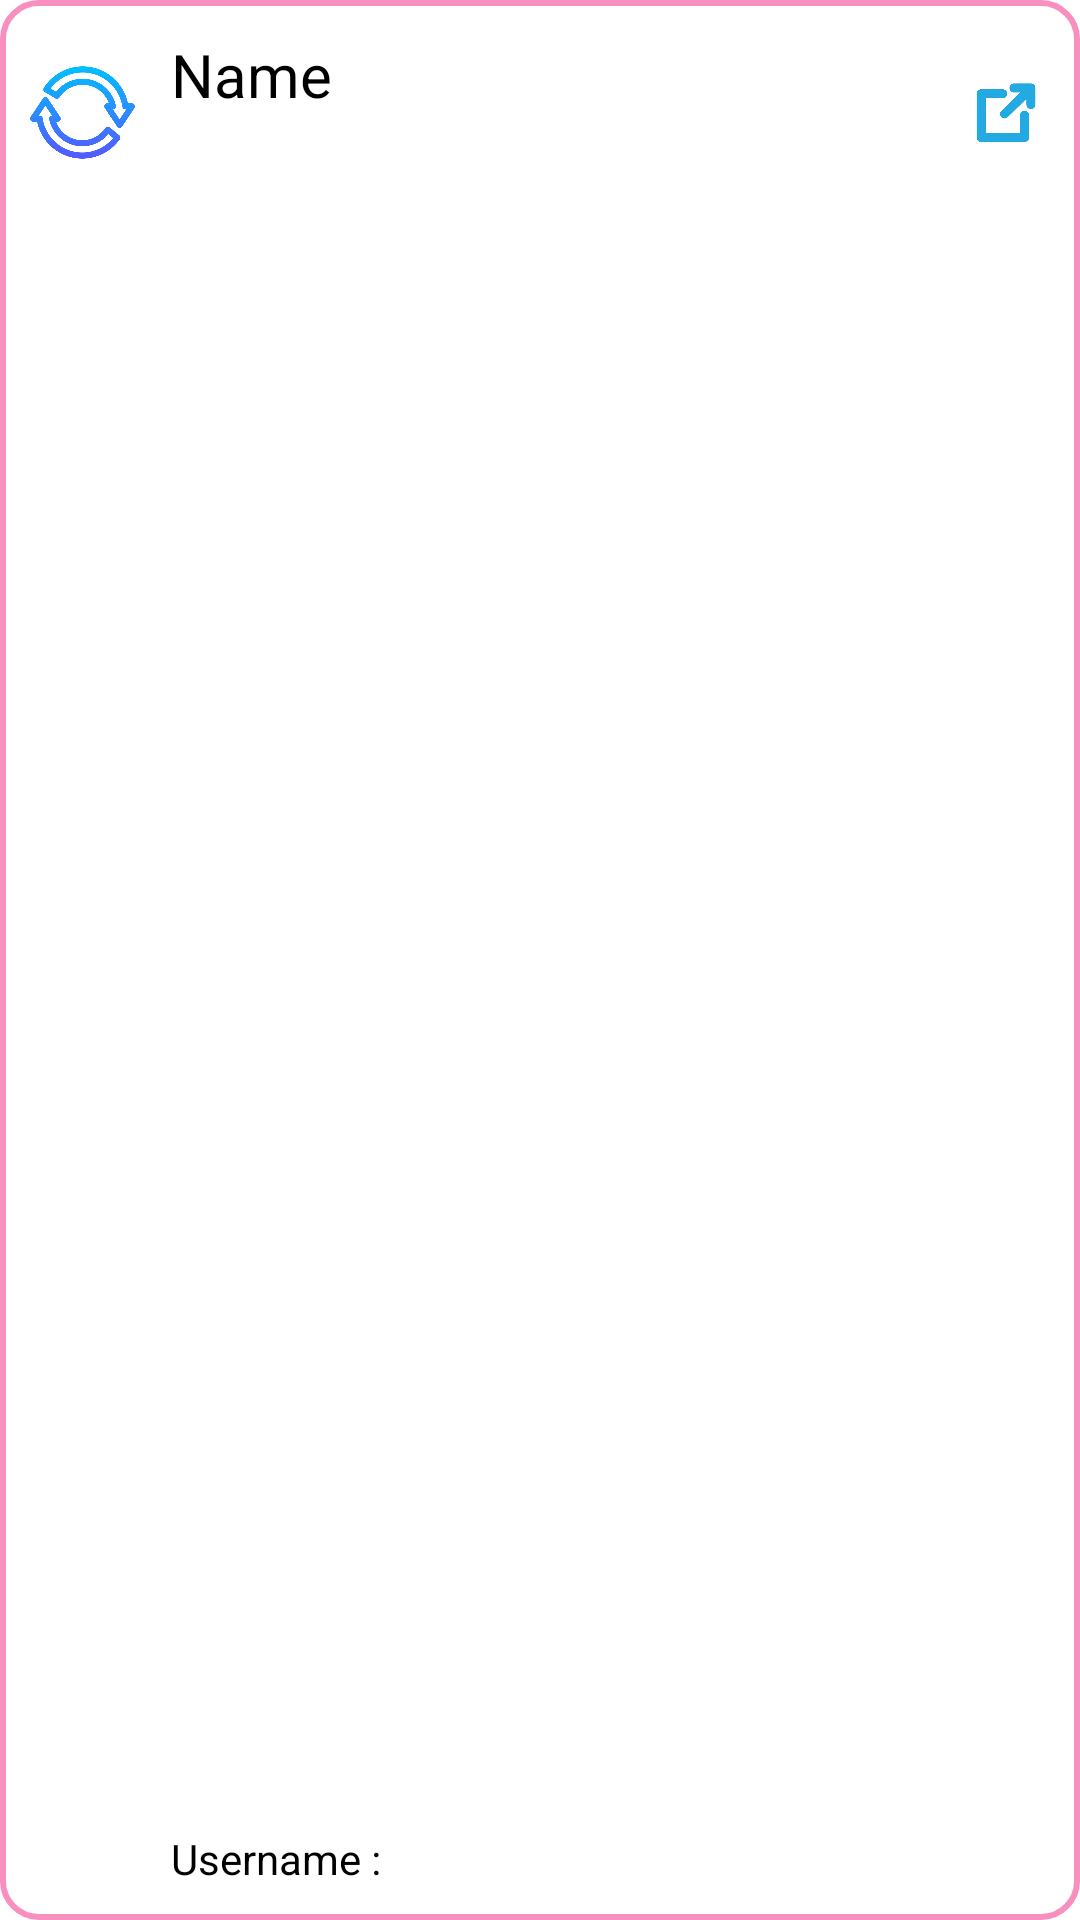

Point at icon controls on the screen. Image size 1080px x 1920px, points as point (x, y).
habit: point (82, 112)
